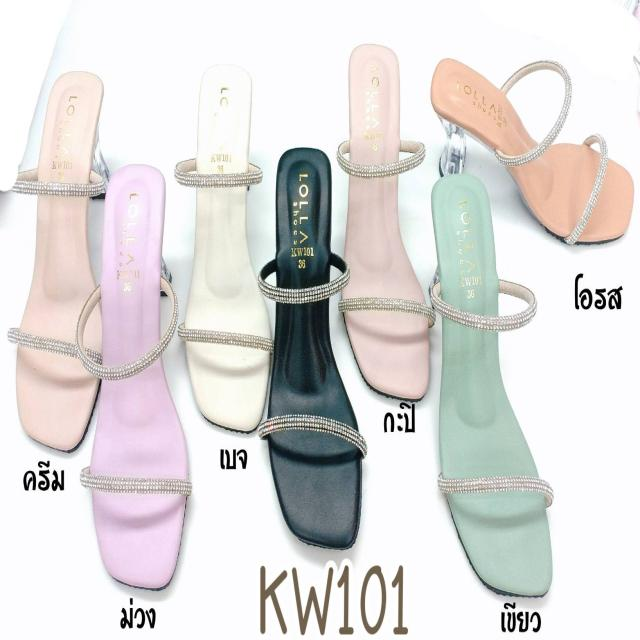bej: (186, 66, 270, 430)
black: (270, 143, 365, 552)
cream: (14, 71, 103, 450)
green: (426, 174, 556, 603)
kapi: (344, 41, 432, 396)
orot: (428, 51, 637, 248)
purple: (87, 163, 188, 583)
